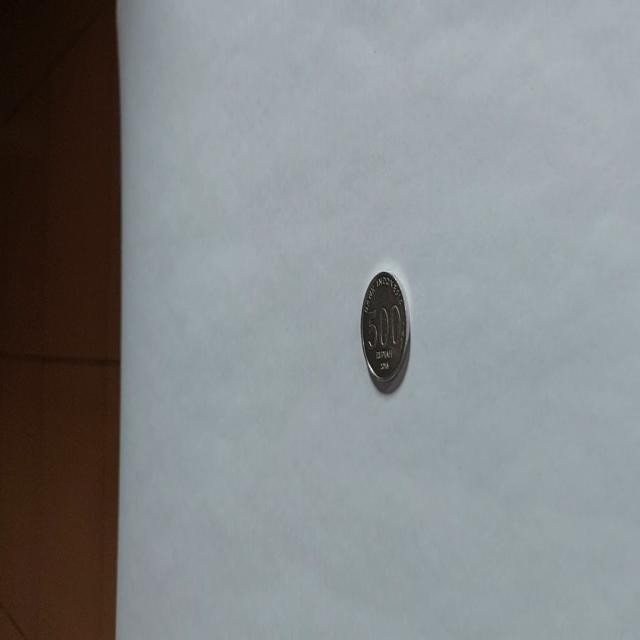lima ratus rupiah: (359, 268, 410, 393)
